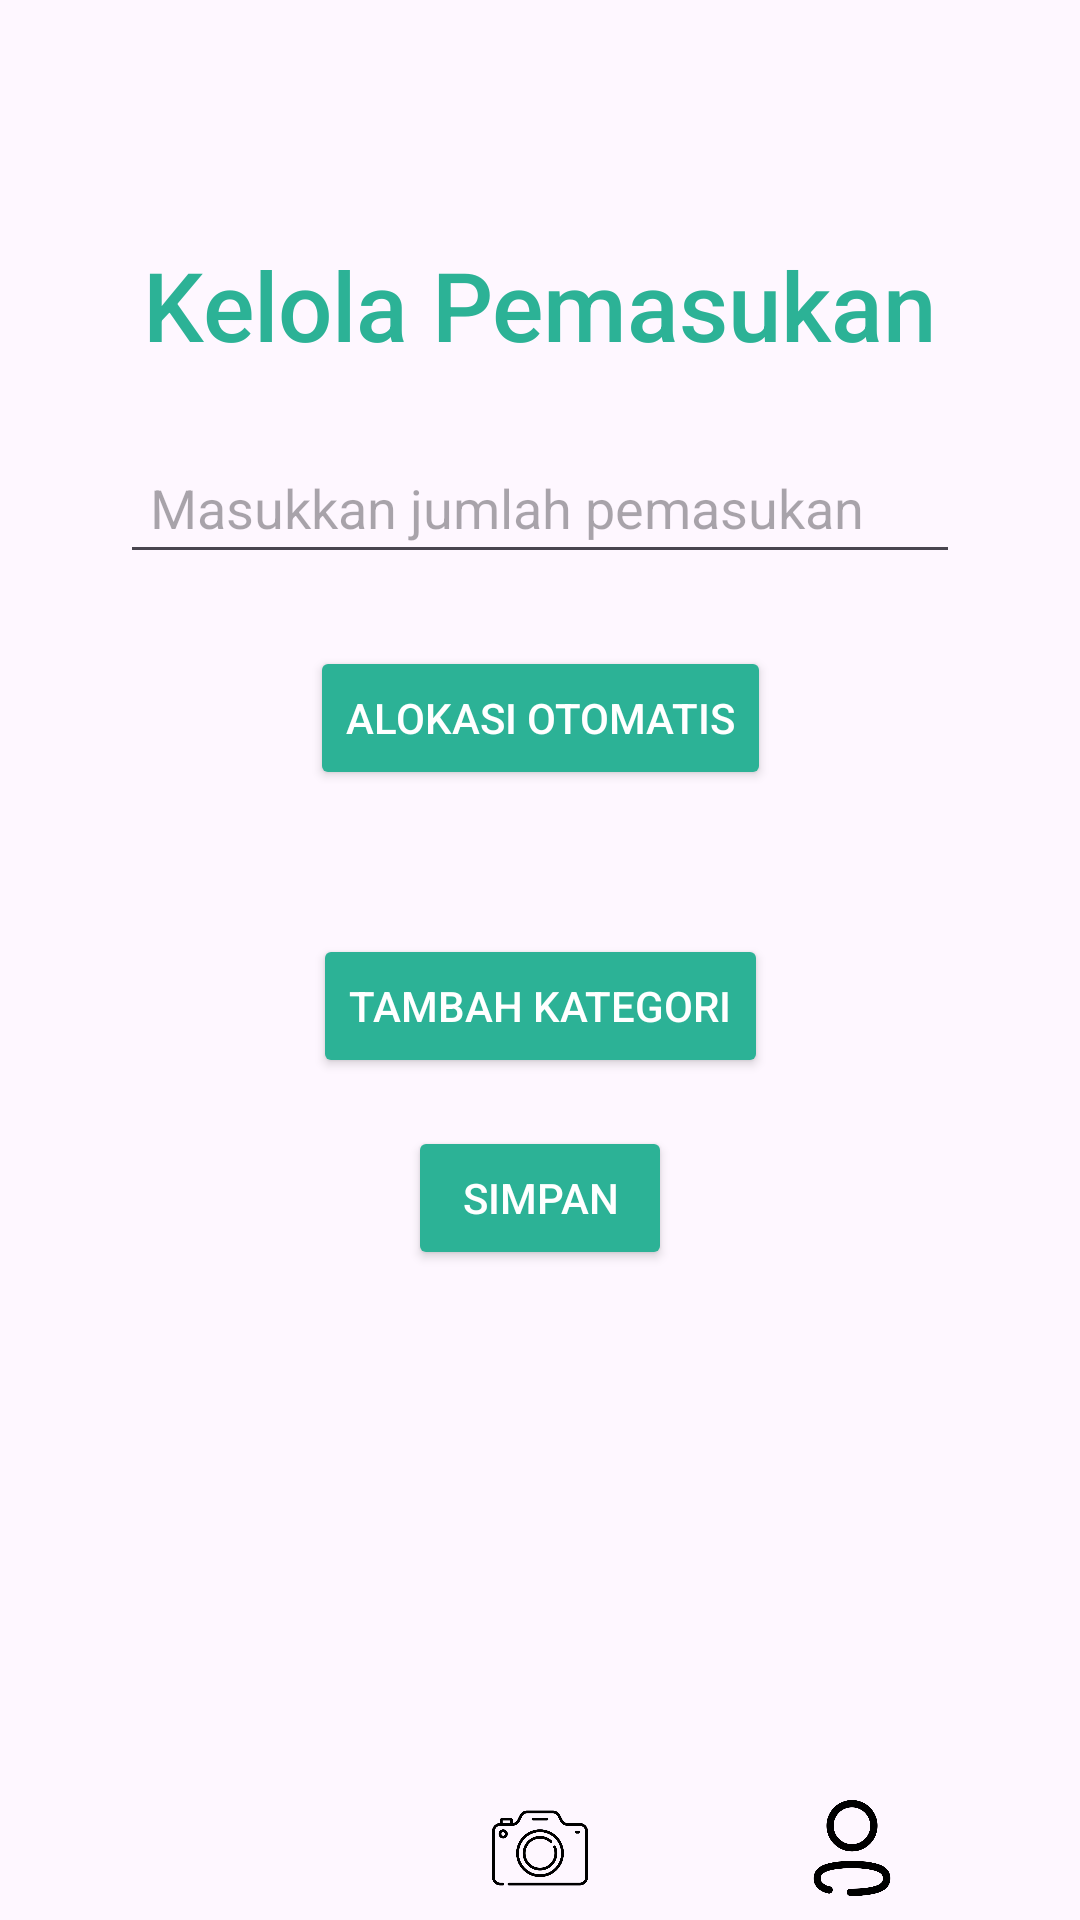

Icon click points for this 1080 × 1920 phone screenshot, format [x,y]:
camera: [540,1848]
profilecandidate: [852,1848]
